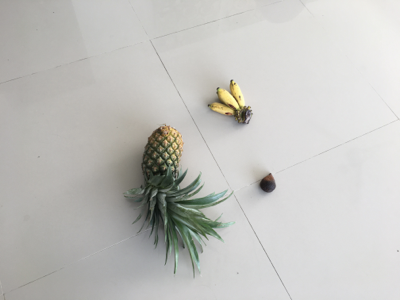banana: (208, 79, 254, 126)
pineapple: (125, 124, 234, 279)
snake fruit: (259, 173, 277, 194)
